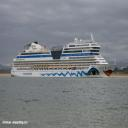cruises: (10, 32, 113, 80)
